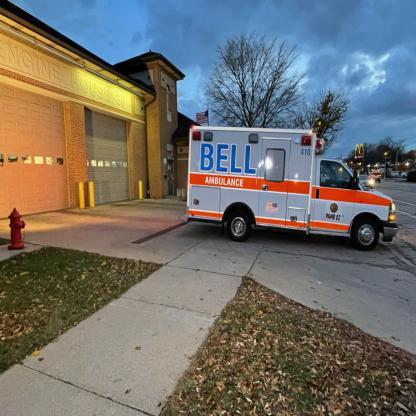Ambulance - v1 Ambulance last generate: (182, 119, 409, 249)
